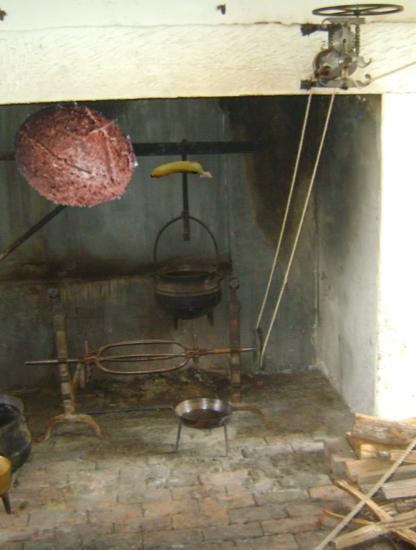Banana: (152, 145, 211, 204)
Cocos: (9, 91, 139, 221)
